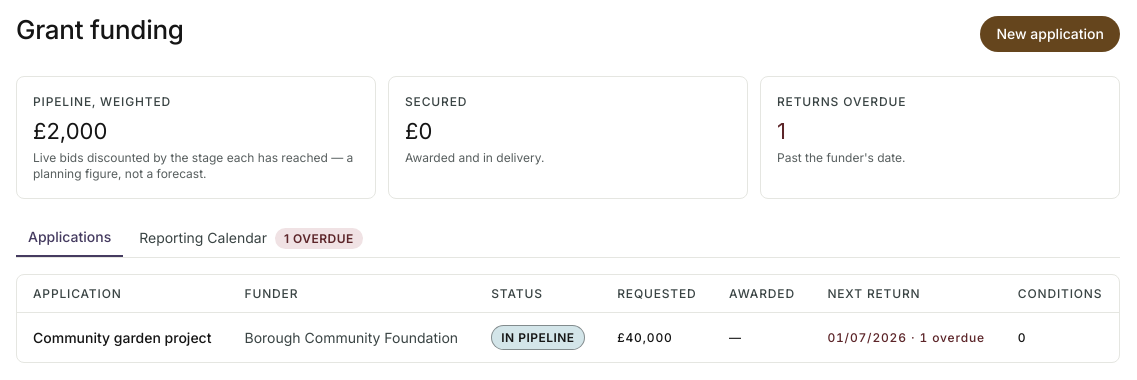
Test case: grant funding portfolio › surfaces overdue returns on the calendar tab
The image size is (1137, 380).
Expected: the link "Community garden project" is shown, [33,329,212,346]
Expected: the text "1" is shown, [777,118,786,144]
What coordinates should you click on to do the following:
click the button "Reporting calendar1 overdue"
I would click on:
 (251, 238)
Its box is [127,219,375,257].
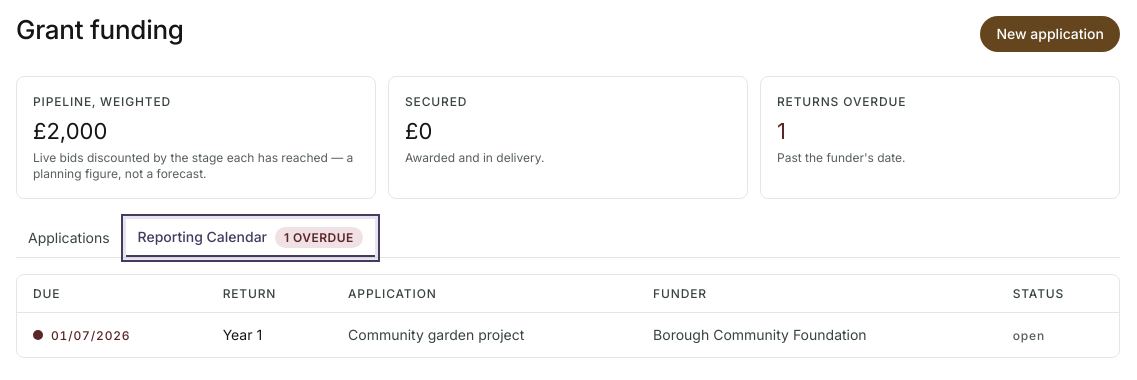
Now the link "Year 1" is shown, box [223,326,262,343]
